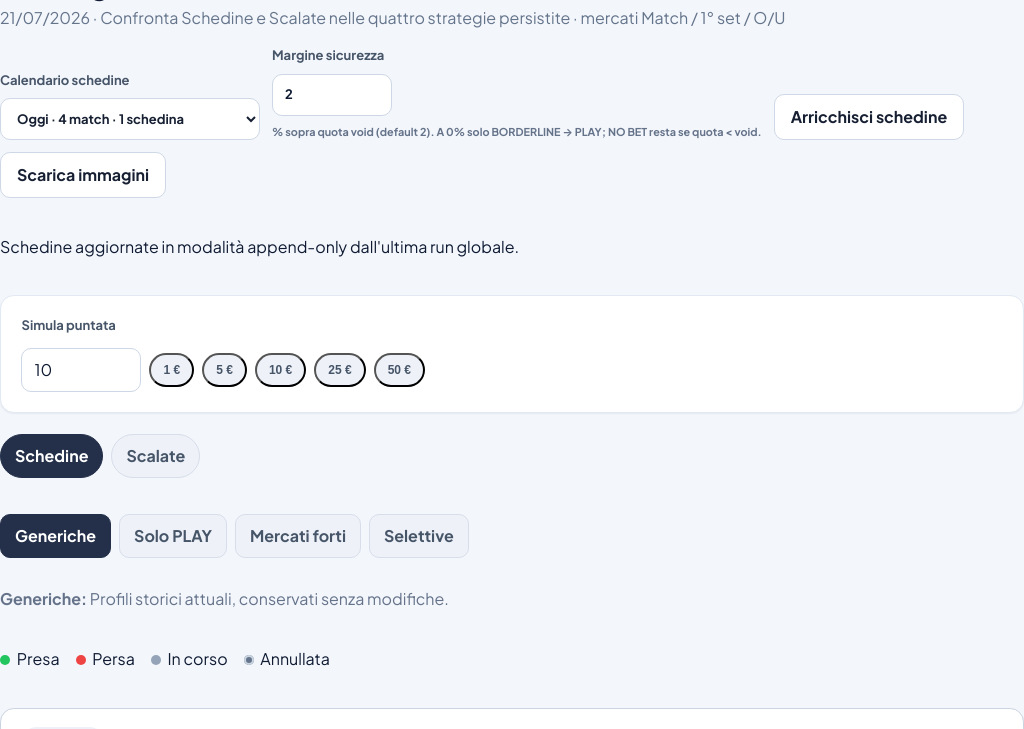
Scenario: BettingSlipsPage › lets the user pick a calendar day from the top dropdown
The image size is (1024, 729).
Select "lun 20/07 · 2 schedine" in the dropdown labelled "Calendario schedine": coordinates (130, 119) [0,98,260,140]
(page scrolled)
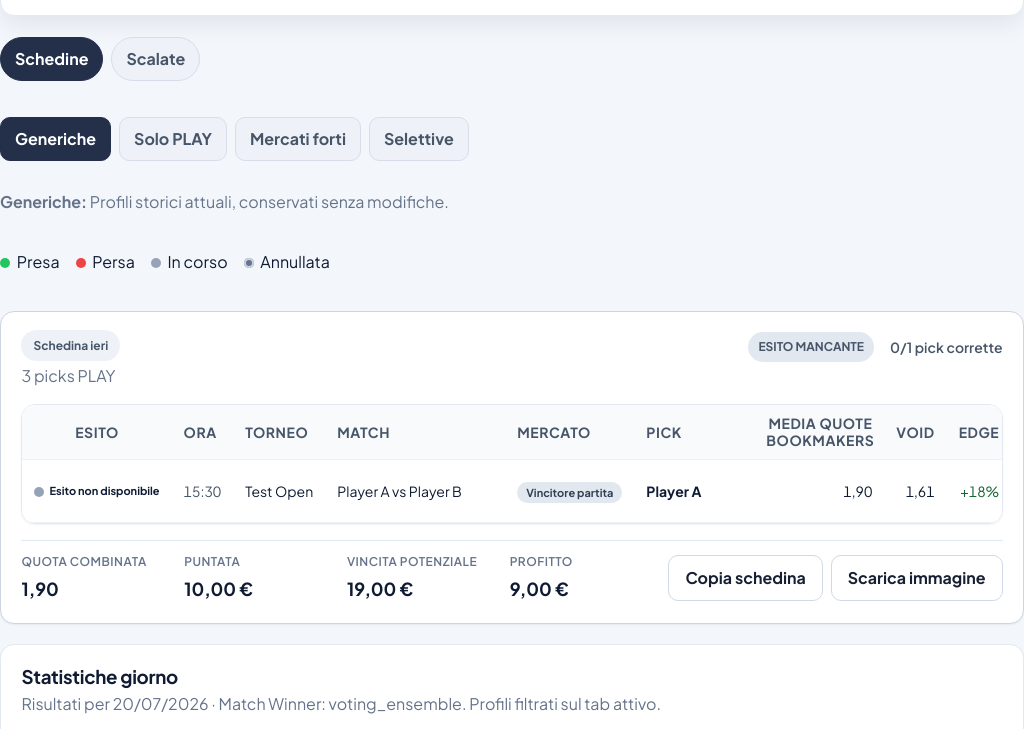
Check: the text "Schedina ieri" is shown, box [22,330,120,361]
